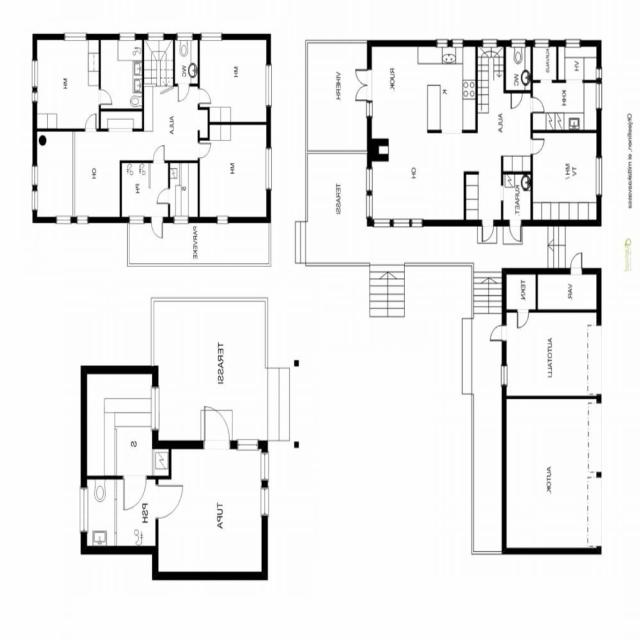door: (156, 388, 190, 424), (218, 454, 242, 491), (210, 504, 236, 535), (489, 325, 507, 342), (482, 219, 494, 243), (151, 217, 163, 239), (356, 70, 372, 86), (356, 85, 372, 101), (510, 220, 521, 242), (571, 253, 582, 275), (517, 309, 529, 329), (511, 90, 523, 110), (177, 83, 189, 102), (531, 138, 544, 154), (157, 188, 170, 204), (85, 113, 96, 131), (198, 88, 211, 103), (99, 90, 112, 104), (154, 147, 164, 164), (531, 98, 543, 112), (198, 143, 210, 157)
